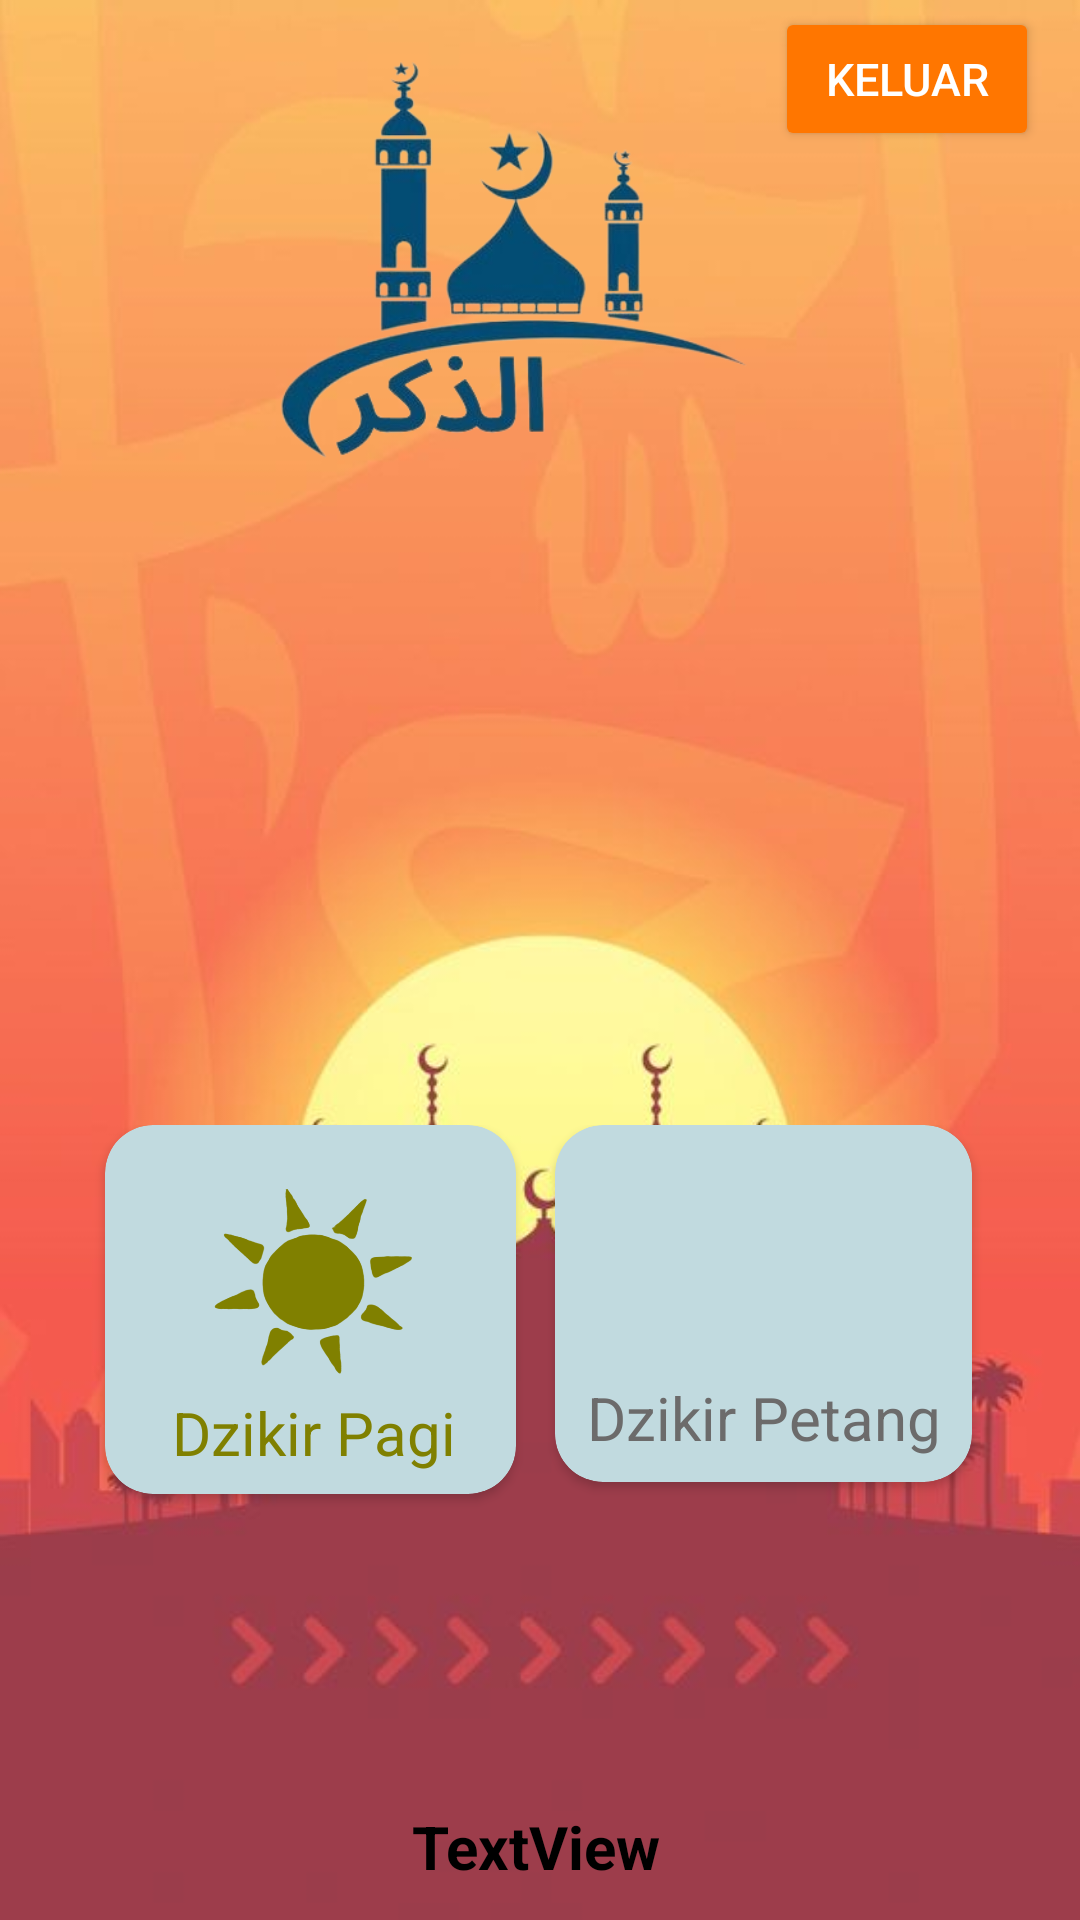

Named icons in this screenshot (1080x1920) and their bounding boxes, box(x1, y1, x2, y2):
sun: box(214, 1189, 412, 1374)
